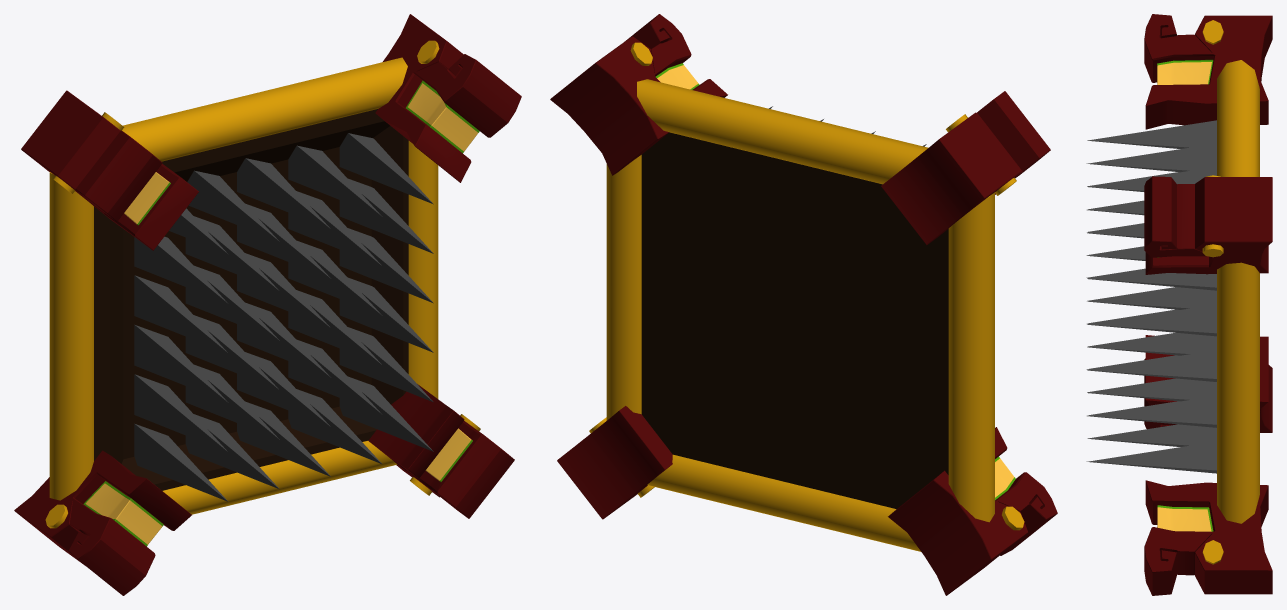
Rendered from SpikeTrap_03.fbx.
3 renders of one model, left to right at view 1: azimuth 30°, elevation 25°; view 2: azimuth 150°, elevation 25°; view 3: azimuth 270°, elevation 25°, orthographic. The views are drawn at different scales.
Visible parts, largest first — view 1: Cylinder062_03 - Default_0; view 2: Cylinder062_03 - Default_0; view 3: Cylinder062_03 - Default_0.
Part boxes in pixels (bbox=[...]): Cylinder062_03 - Default_0: bbox=[14, 14, 521, 595]; Cylinder062_03 - Default_0: bbox=[550, 14, 1057, 595]; Cylinder062_03 - Default_0: bbox=[1086, 14, 1272, 595].
Bounding box in the file's own units: 14012 × 14012 × 5519.
